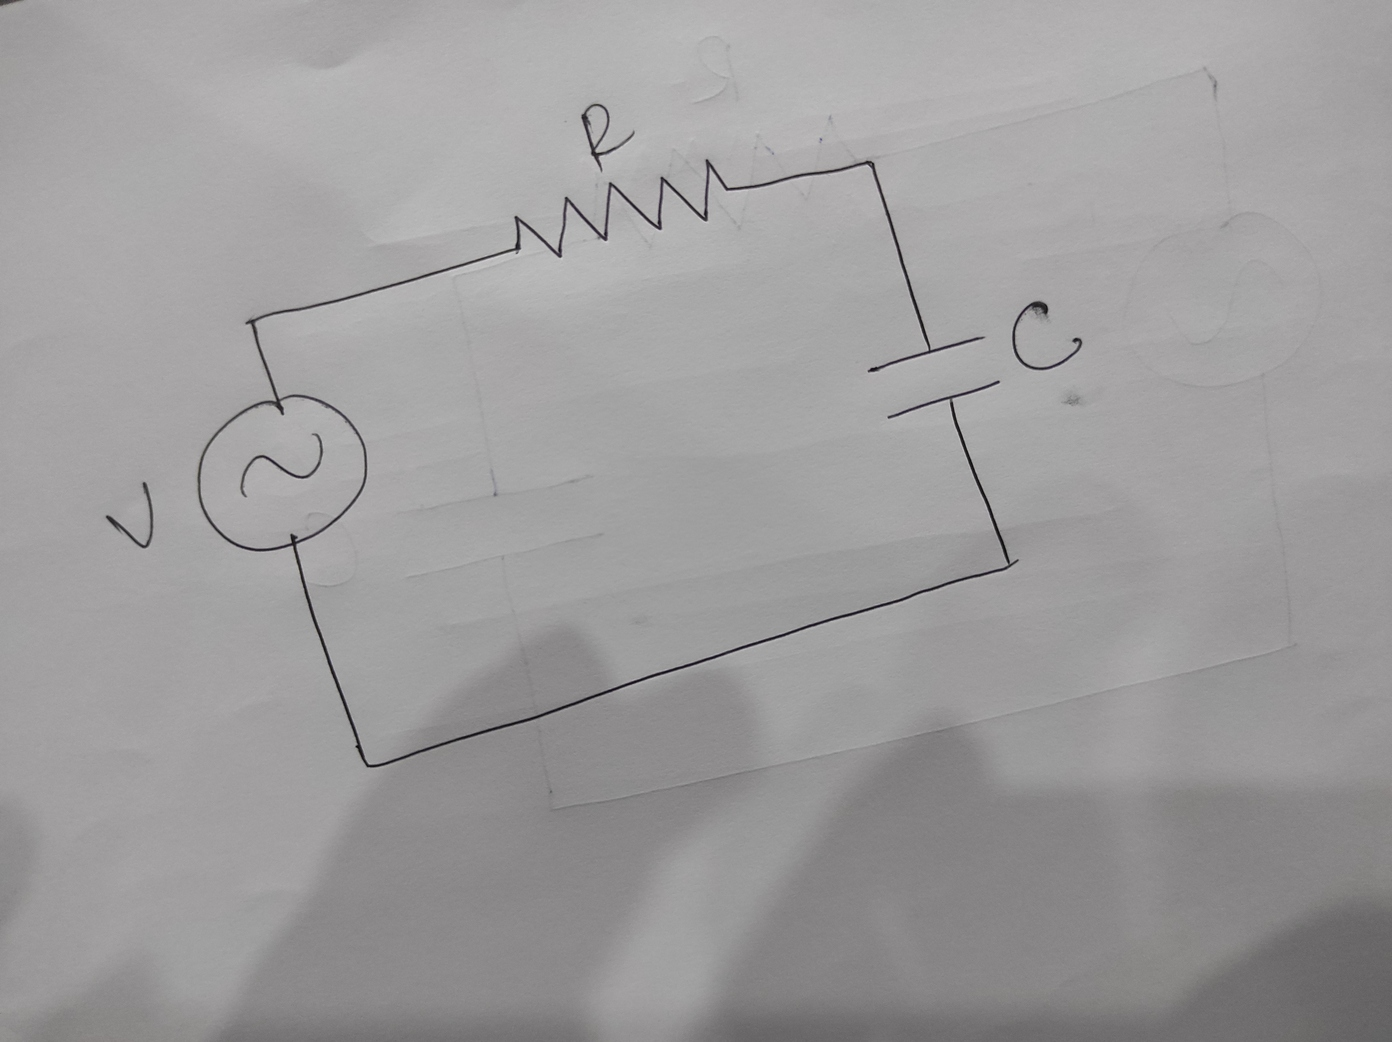capacitor.unpolarized: (865, 331, 1004, 425)
junction: (854, 150, 886, 177), (237, 308, 267, 335), (996, 552, 1025, 577), (352, 753, 382, 776)
resistor: (511, 155, 734, 264)
text: (1009, 299, 1086, 373), (577, 100, 635, 176), (102, 478, 156, 551)
voltage.dc_ac: (192, 389, 374, 554)
